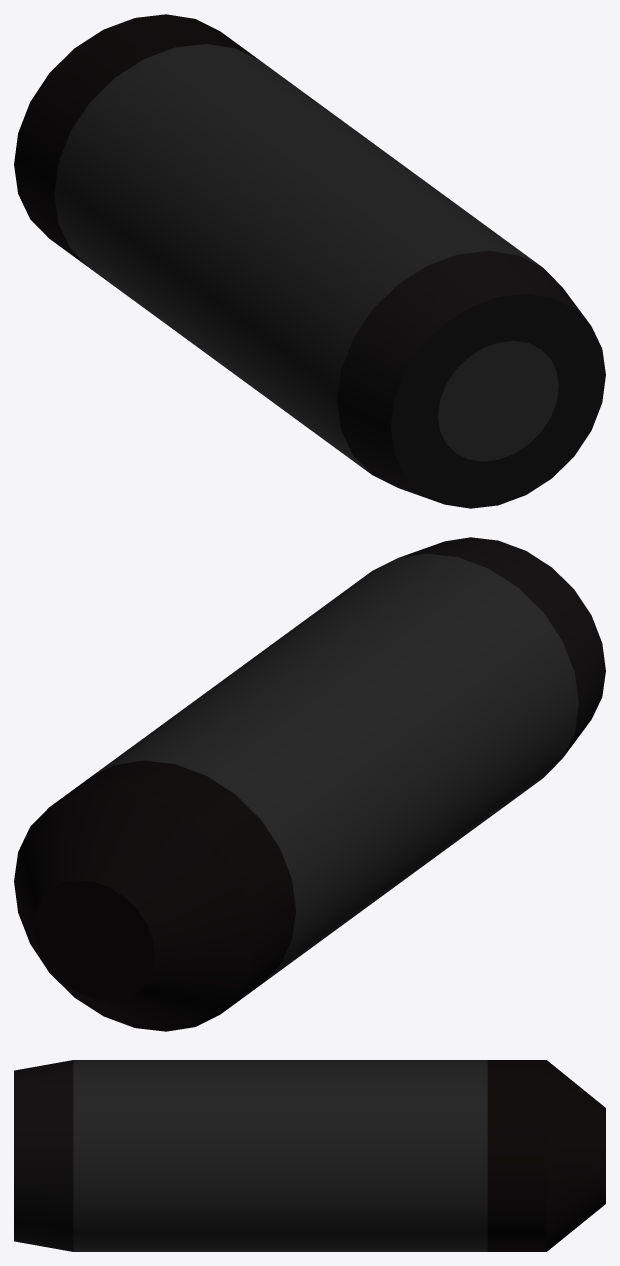
Rendered from shotgun_bullet.fbx.
3 views of the same model, one above another, from view 1: azimuth 30°, elevation 25°; view 2: azimuth 150°, elevation 25°; view 3: azimuth 270°, elevation 25° (orthographic). The views are drawn at different scales.
Visible parts, largest first — view 1: mergedBlocks; view 2: mergedBlocks; view 3: mergedBlocks.
Part boxes in pixels (left/top/right/bottom): mergedBlocks: left=14, top=14, right=605, bottom=508; mergedBlocks: left=14, top=537, right=605, bottom=1031; mergedBlocks: left=14, top=1060, right=605, bottom=1251.
Size of the model in its own units: 1.04 by 0.96 by 3.
1 material, 1 textured.
